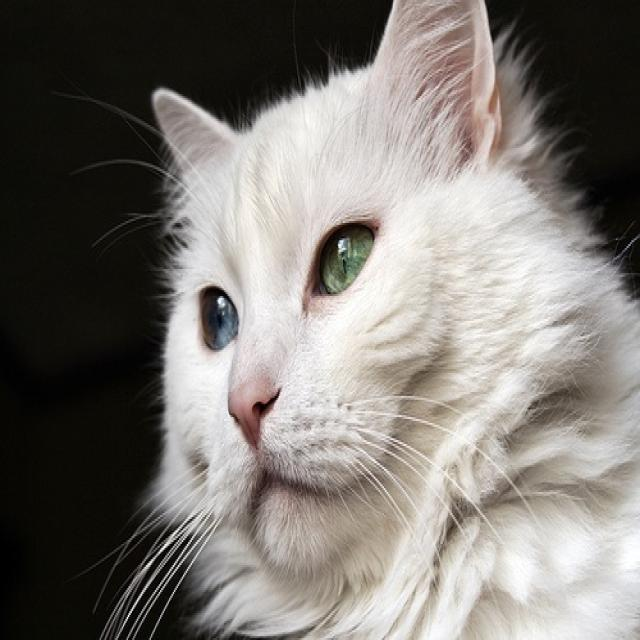cat: (90, 0, 638, 638)
